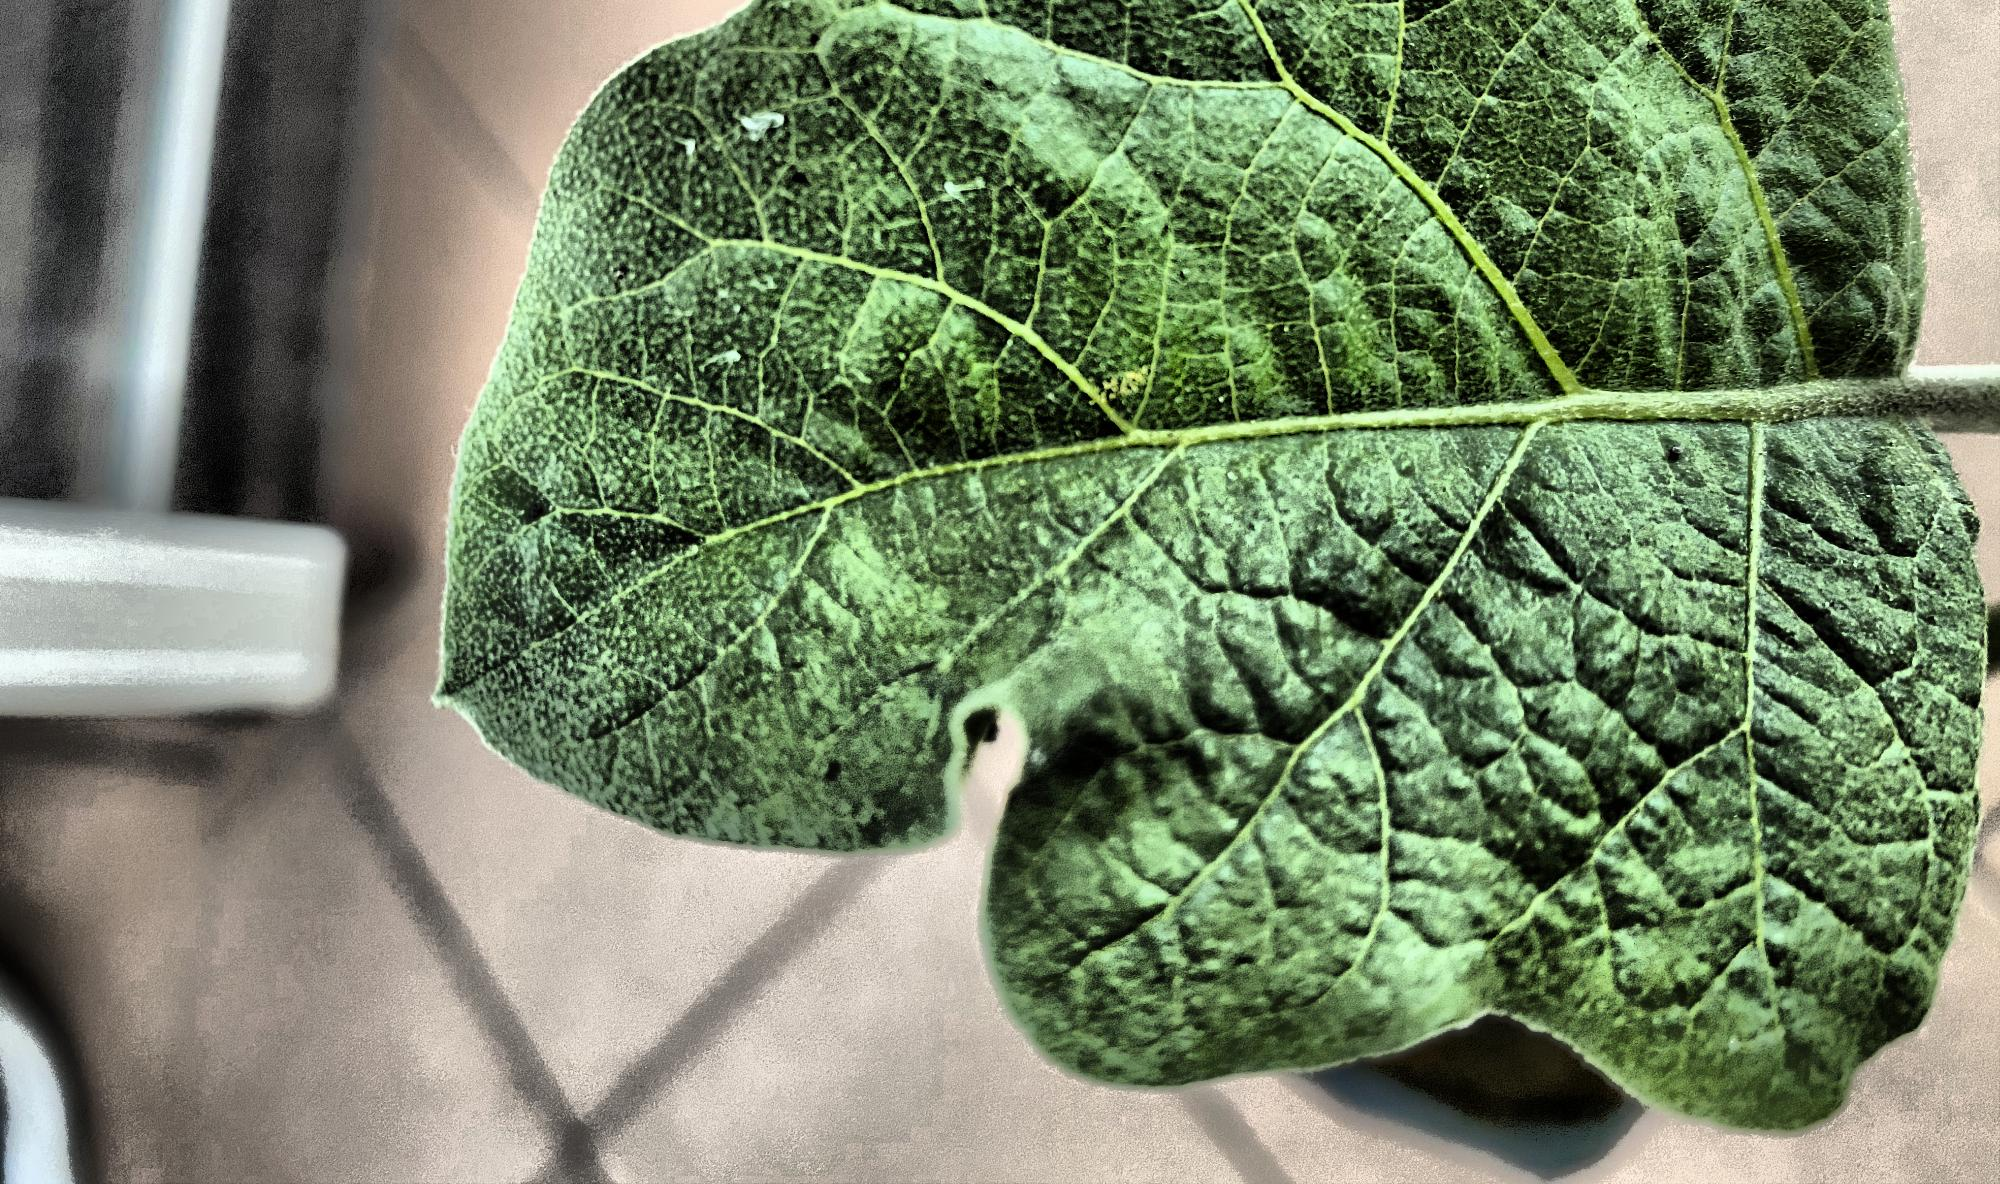HEALTHY: (0, 118, 1487, 1184)
